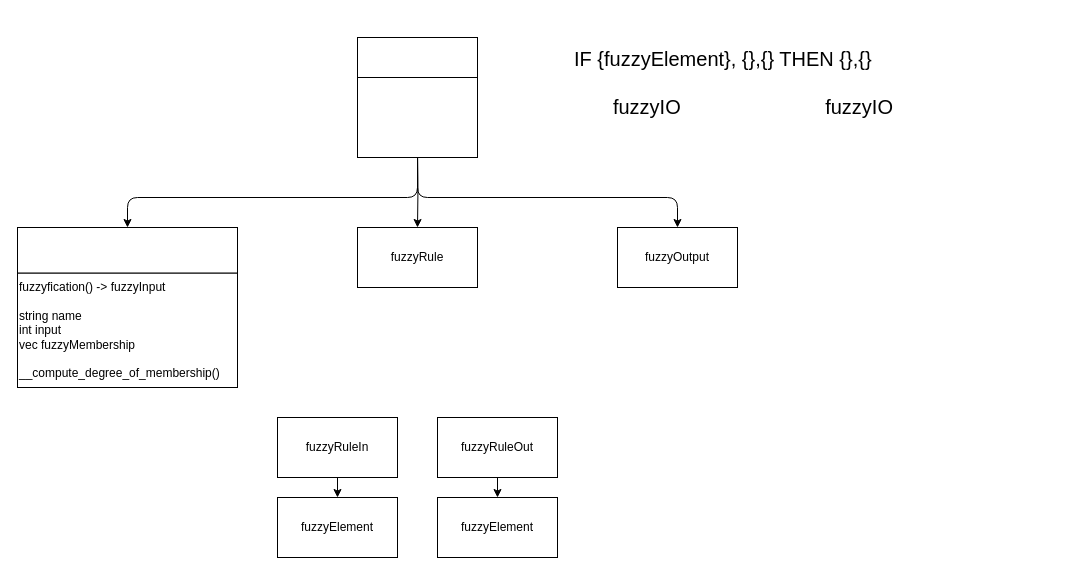
Some shapes in this 1070 by 575 pixel diagram are drawn without their labels. The shapes that lost their labels are listed below. From the top down, each one's box as (x1, y1, x2, y2) in pixels, then its label:
(356, 36, 478, 78): fuzzyControl
(16, 226, 238, 273): fuzzyInput
